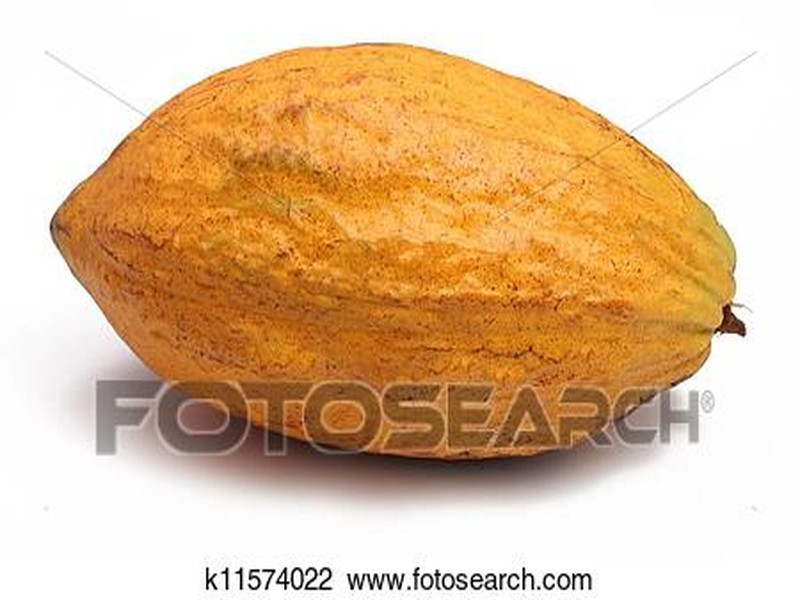Cacaopod: (45, 41, 755, 463)
